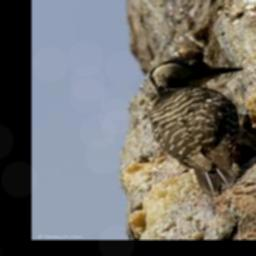Woodpecker: (148, 55, 256, 199)
